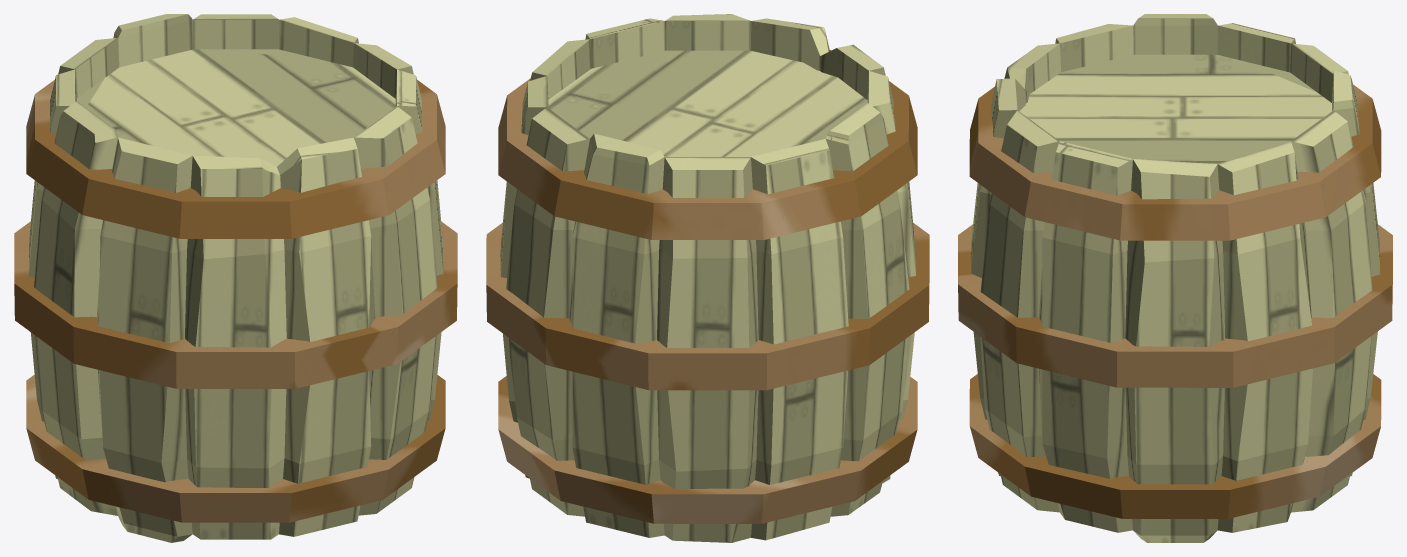
File: Keg.fbx
3 renders of one model, left to right at view 1: azimuth 30°, elevation 25°; view 2: azimuth 150°, elevation 25°; view 3: azimuth 270°, elevation 25°, orthographic.
Visible parts, largest first — view 1: SM_Prop_Crab_Sign_01.001; view 2: SM_Prop_Crab_Sign_01.001; view 3: SM_Prop_Crab_Sign_01.001.
Boxes of the visible parts, x1,y1,x2,y2 form: SM_Prop_Crab_Sign_01.001: (14,14,457,542); SM_Prop_Crab_Sign_01.001: (486,14,929,542); SM_Prop_Crab_Sign_01.001: (958,14,1392,542).
Bounding box in the file's own units: 275 × 268 × 275.
